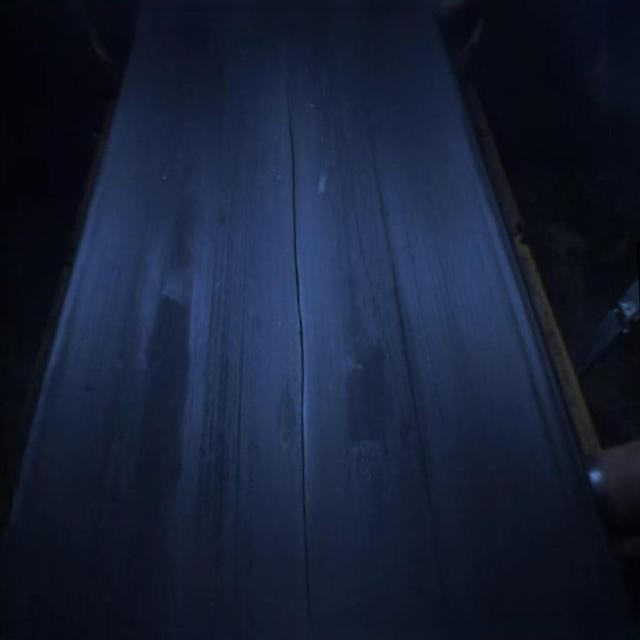Tear: (277, 69, 317, 640)
